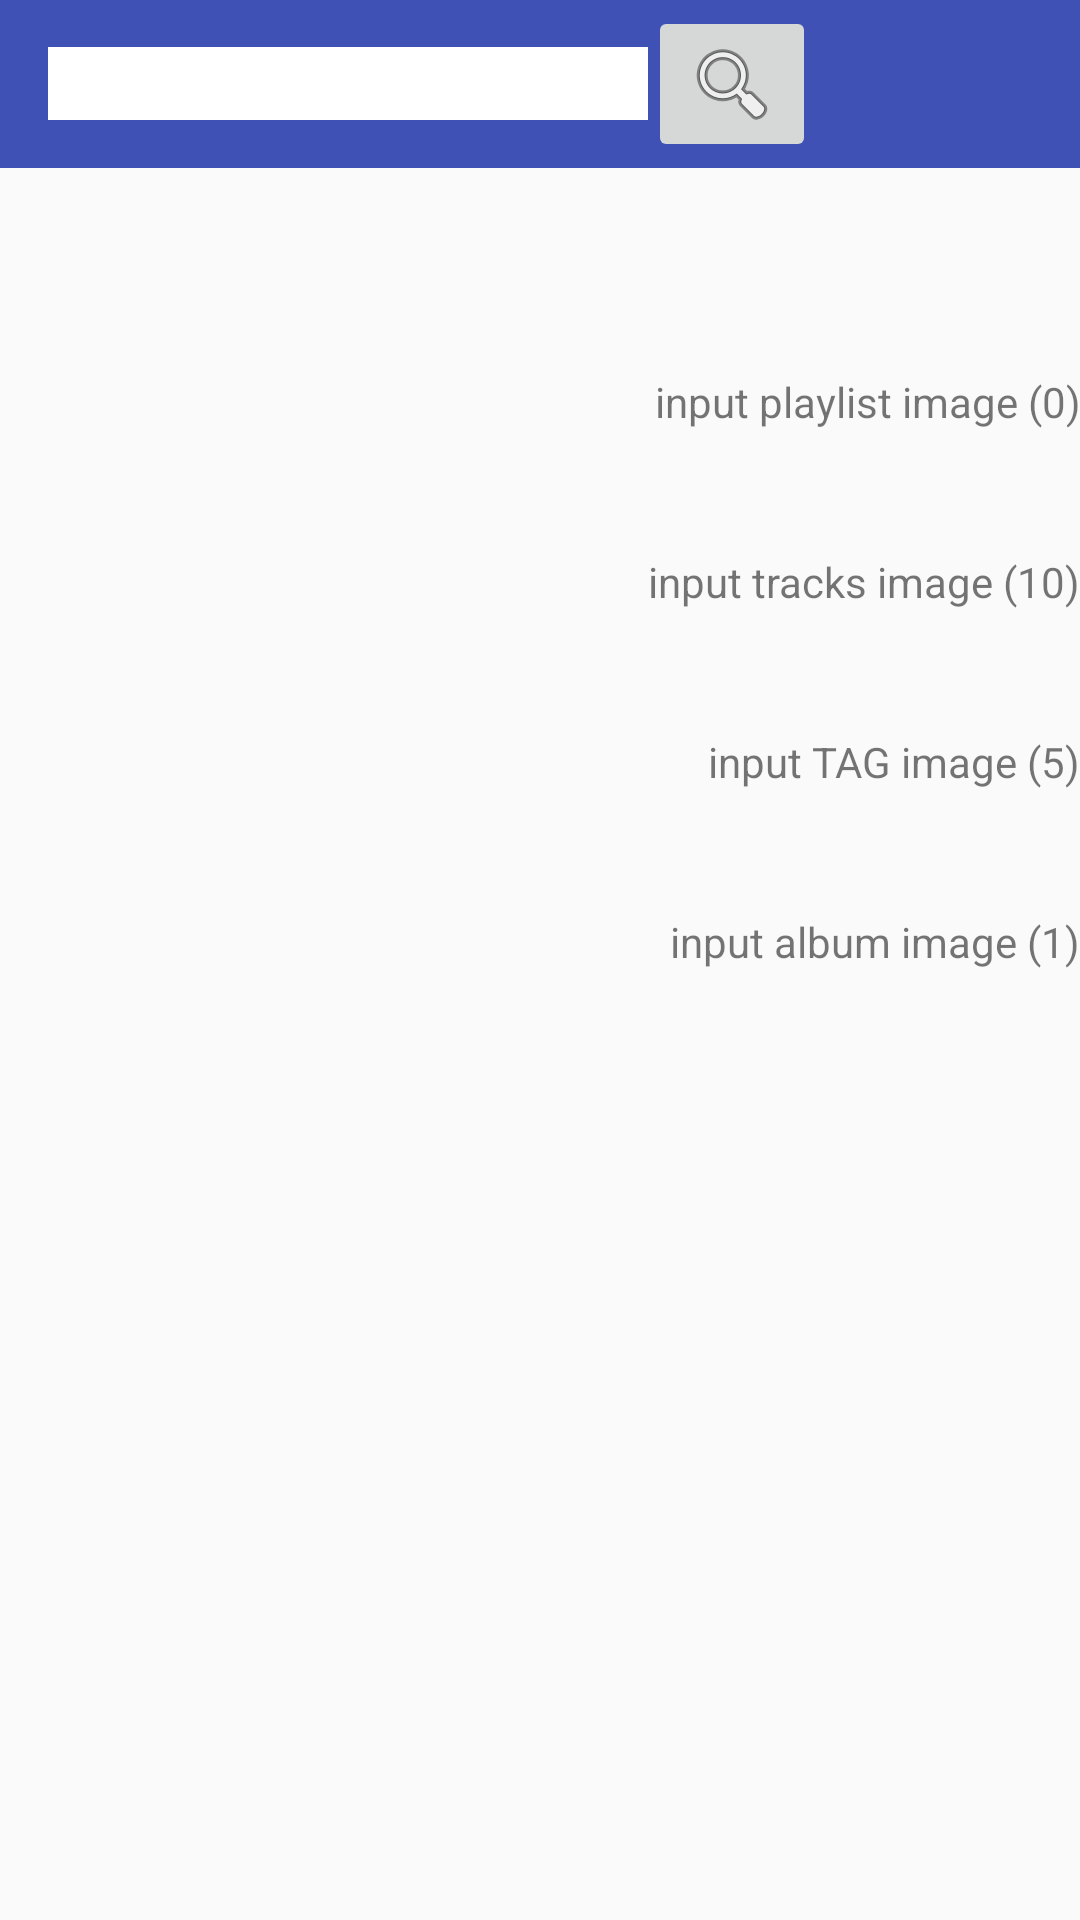

Point at icon controls on the screen. Image size 1080w x 1920h, points as [x,y].
search: [732,84]
